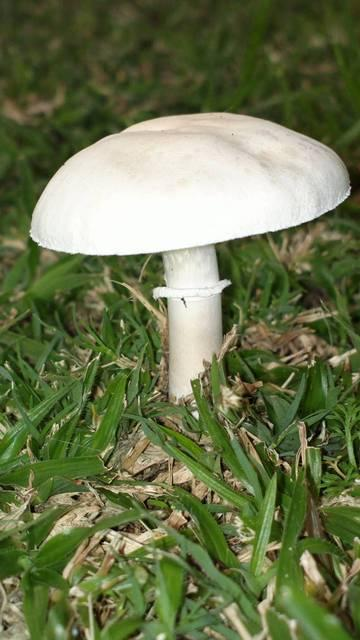poisonous_mushroom: (27, 110, 351, 416)
